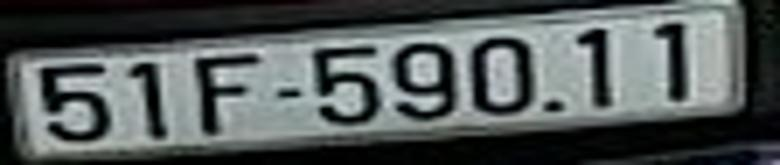-: (277, 87, 300, 98)
.: (547, 98, 564, 110)
0: (472, 35, 536, 114)
1: (130, 63, 166, 139), (580, 28, 608, 107), (658, 22, 685, 101)
5: (41, 67, 113, 142), (313, 47, 380, 125)
9: (395, 44, 453, 120)
F: (195, 56, 262, 137)
